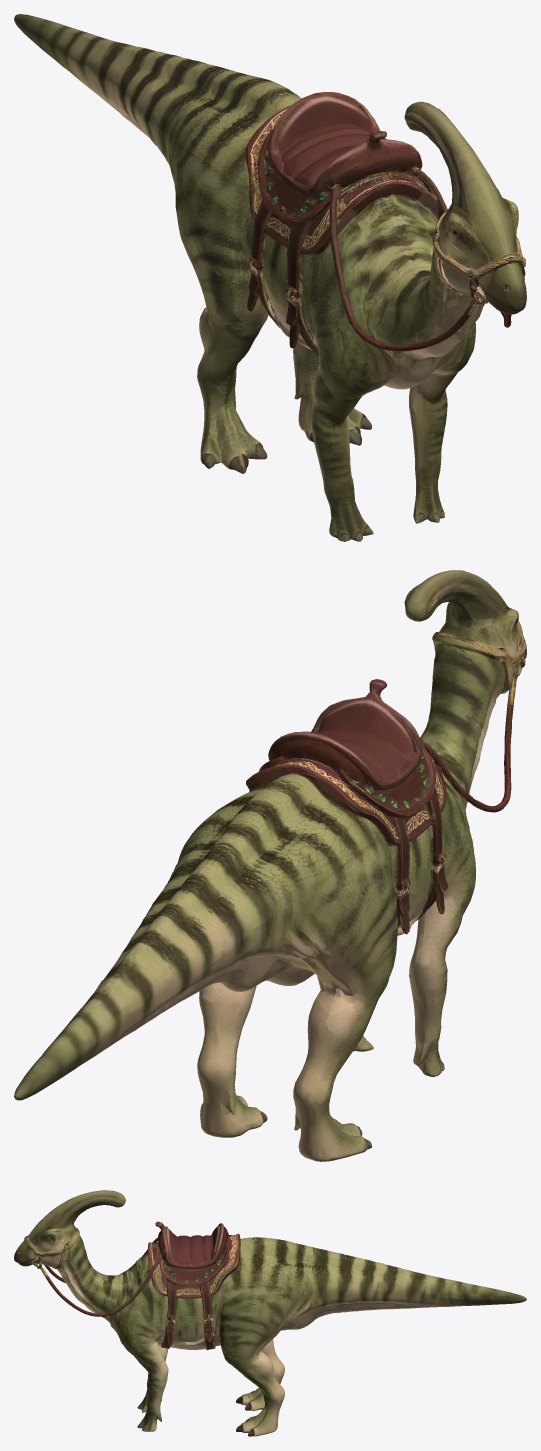
The model's file is et_hadro.glb.
3 views of the same model, one above another, from view 1: azimuth 30°, elevation 25°; view 2: azimuth 150°, elevation 25°; view 3: azimuth 270°, elevation 25° (orthographic). The views are drawn at different scales.
Bounding box in the file's own units: 0.4052 × 0.9327 × 1.9.
Materials: 1 (1 with a texture image).
